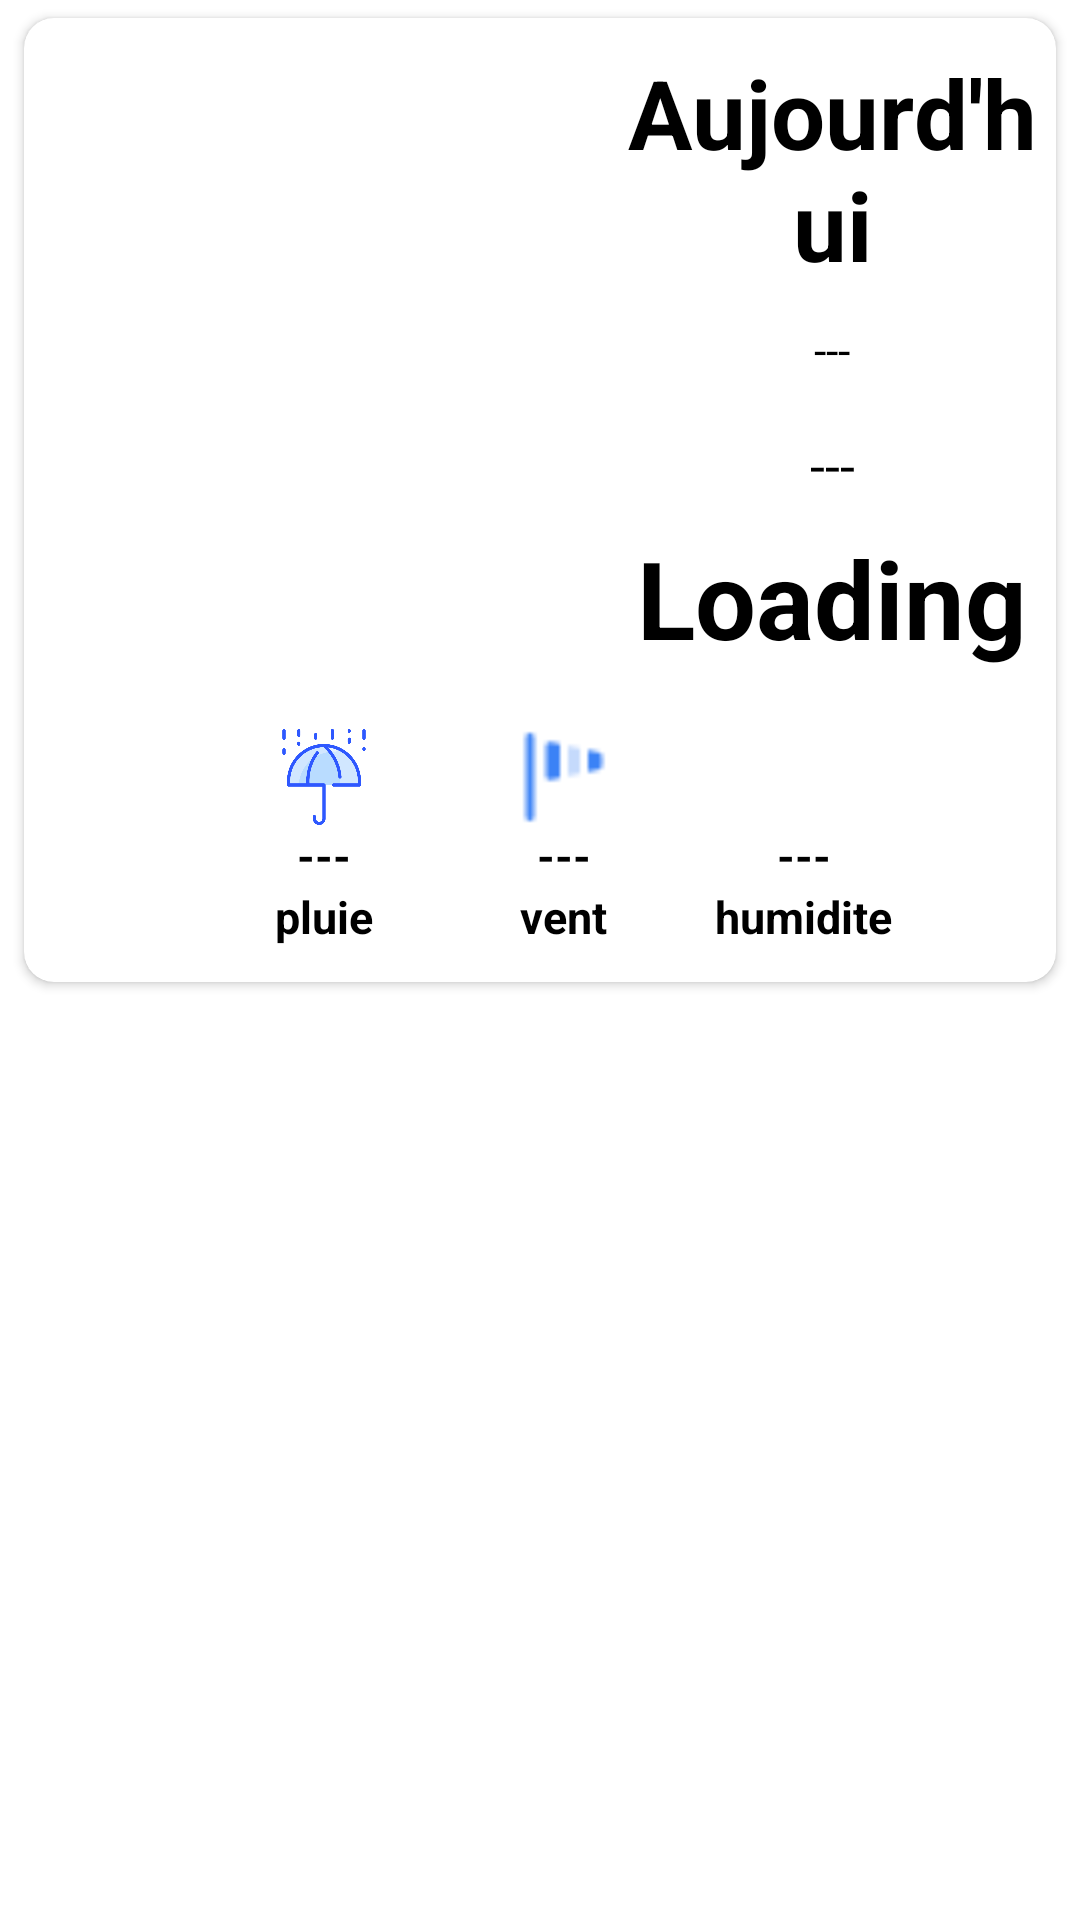

Screen size 1080x1920. Icon name, then its box in pixels as (x1, y1, x2, y2):
umbrella: (282, 729, 366, 825)
